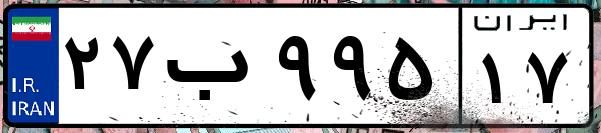1: (475, 38, 525, 113)
2: (57, 26, 110, 100)
5: (385, 28, 445, 110)
7: (525, 38, 570, 115), (110, 28, 158, 98)
9: (270, 28, 330, 110), (330, 28, 385, 110)
ب: (158, 20, 270, 120)
